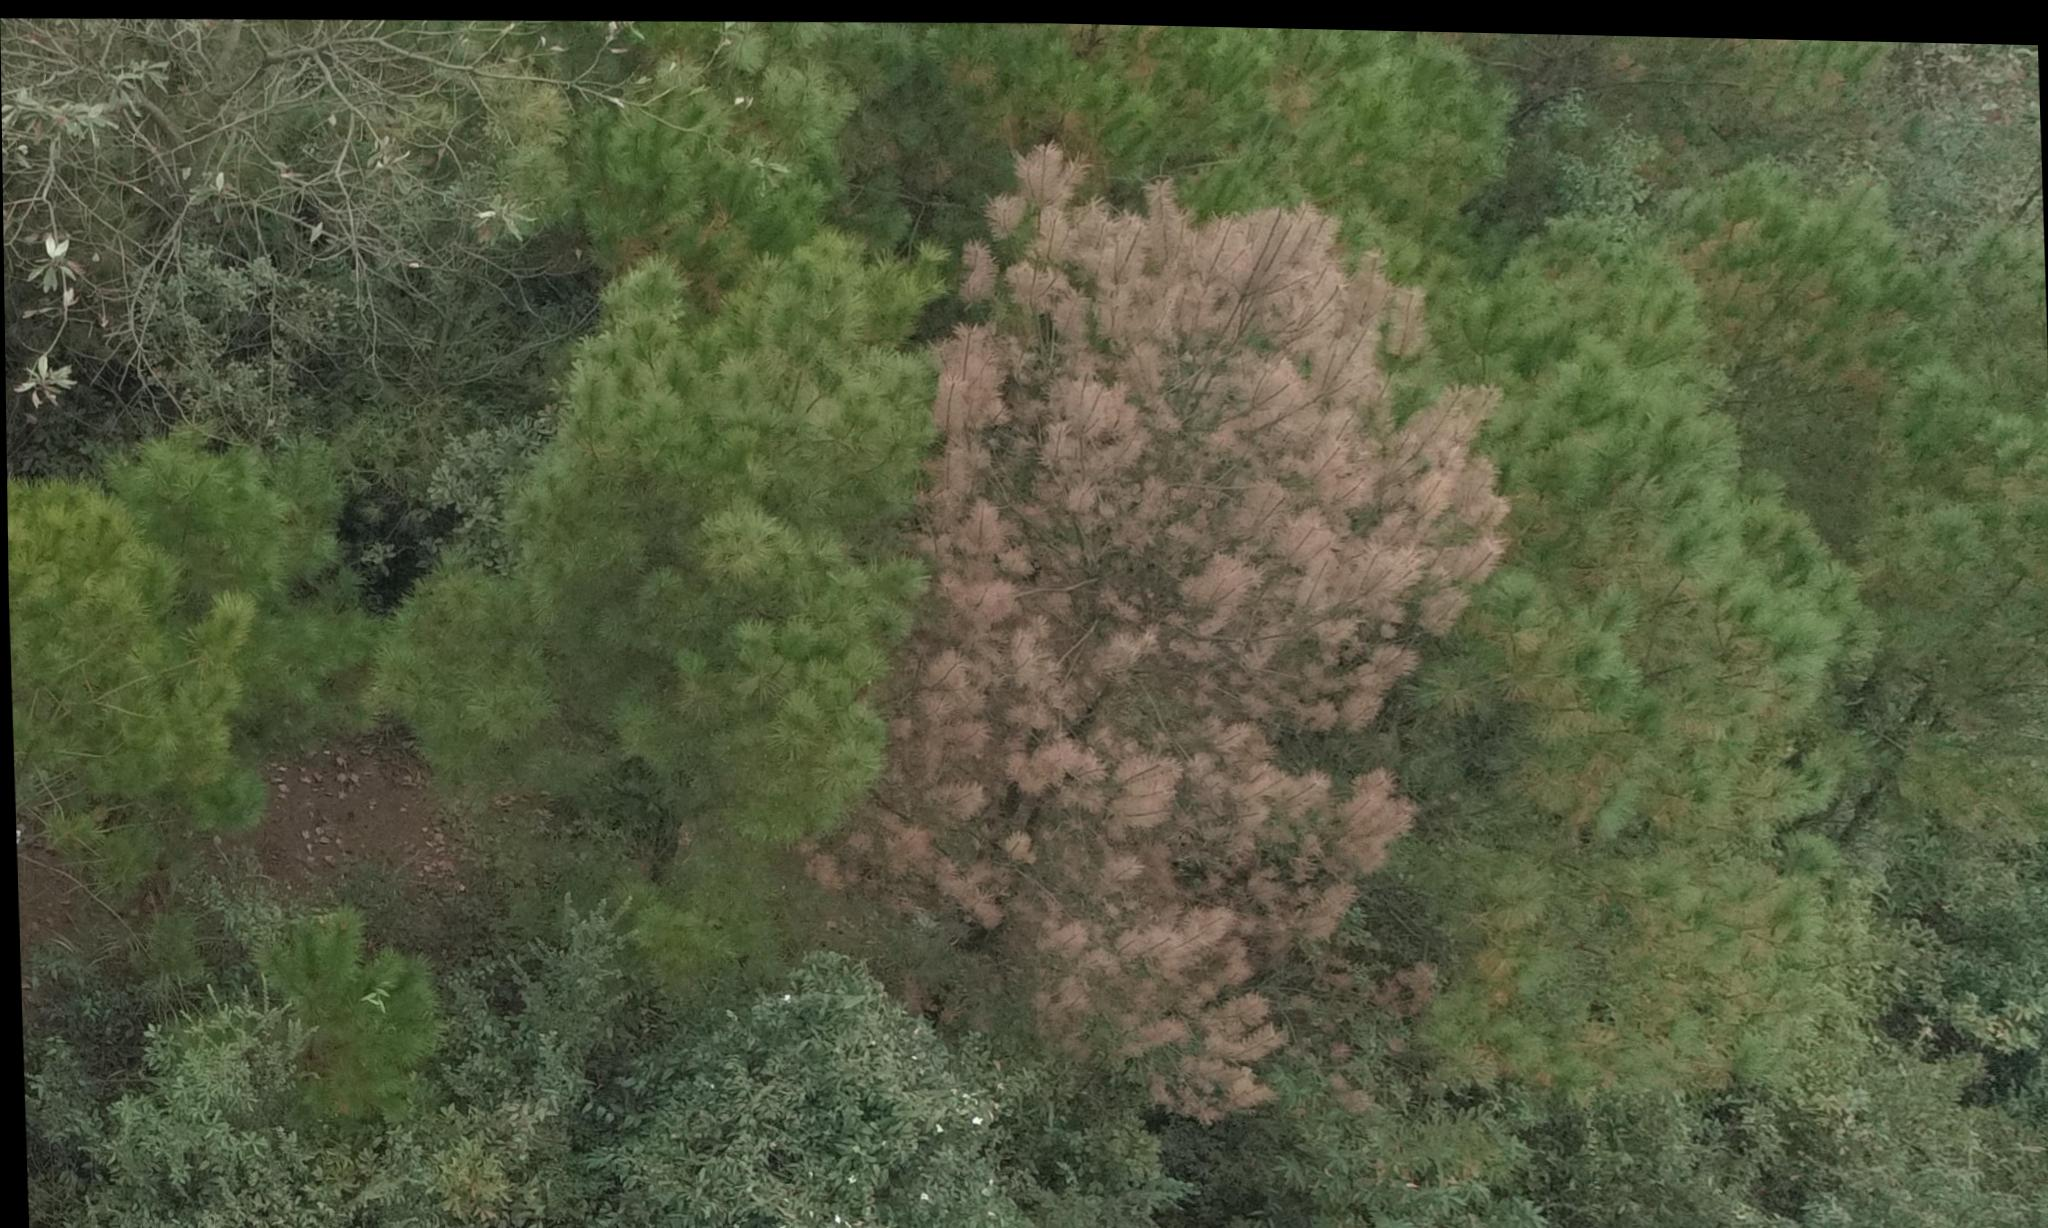heavy: (906, 124, 1516, 1142)
